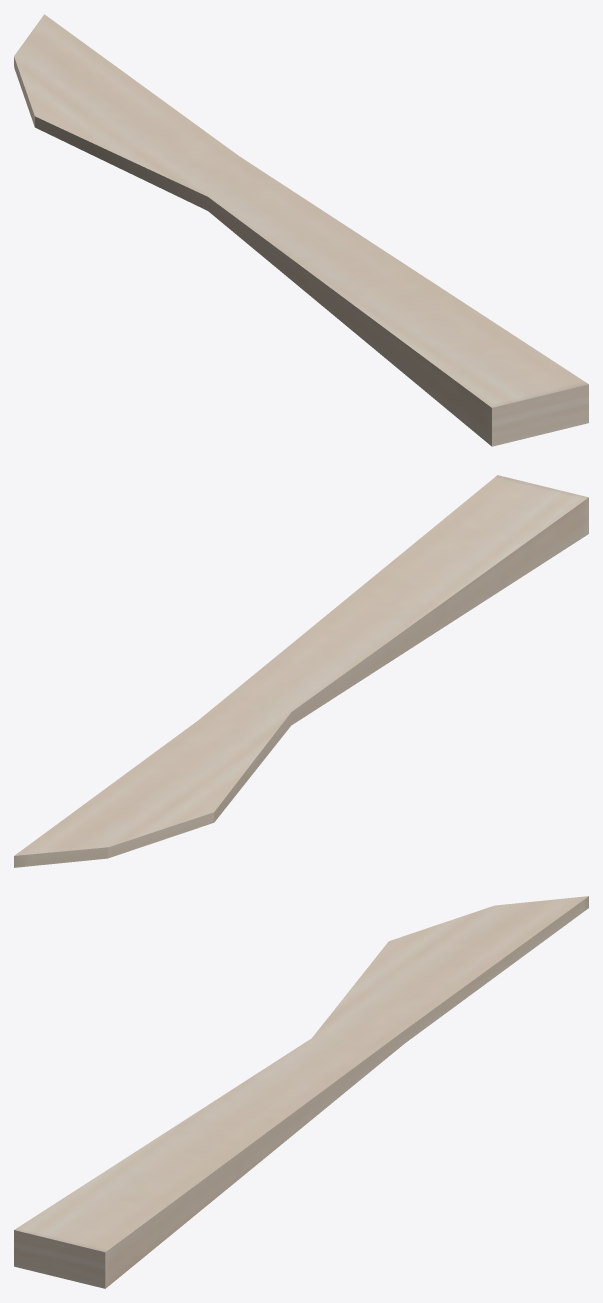
File: Spoon_2.fbx
3 renders of one model, top to bottom at view 1: azimuth 30°, elevation 25°; view 2: azimuth 150°, elevation 25°; view 3: azimuth 330°, elevation 25°, orthographic. The views are drawn at different scales.
Parts seen in each view (by area): view 1: pCube559; view 2: pCube559; view 3: pCube559.
Part boxes in pixels (x1,y1,x2,y2): pCube559: (14,14,588,446); pCube559: (14,475,588,867); pCube559: (14,896,588,1288).
Bounding box in the file's own units: 0.0342 × 0.01 × 0.247.
